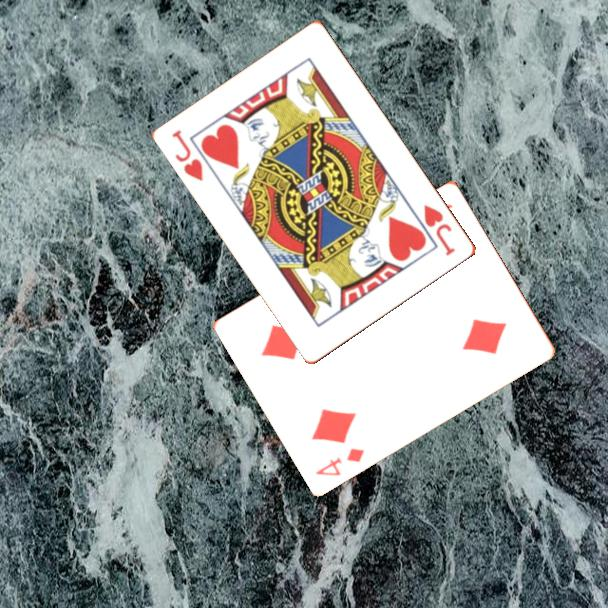d04: (312, 444, 368, 478)
h11: (420, 201, 459, 259), (168, 126, 206, 184)
